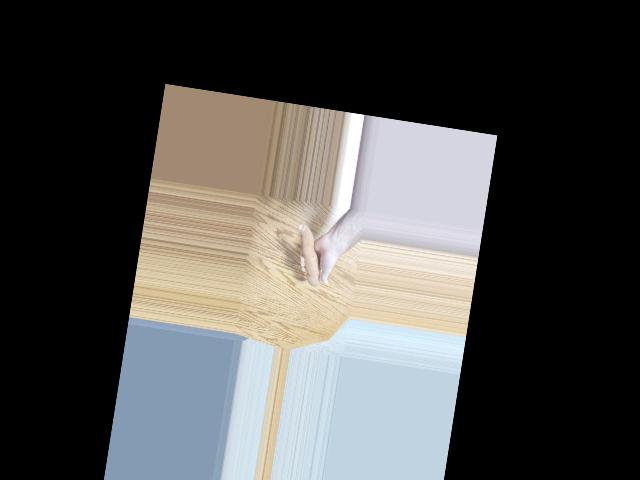sweet_potato: (290, 221, 328, 287)
